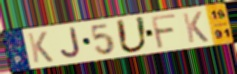5: (91, 22, 118, 57)
F: (149, 12, 178, 50)
J: (59, 26, 83, 60)
K: (26, 30, 55, 65), (181, 10, 210, 44)
U: (114, 15, 150, 55)
